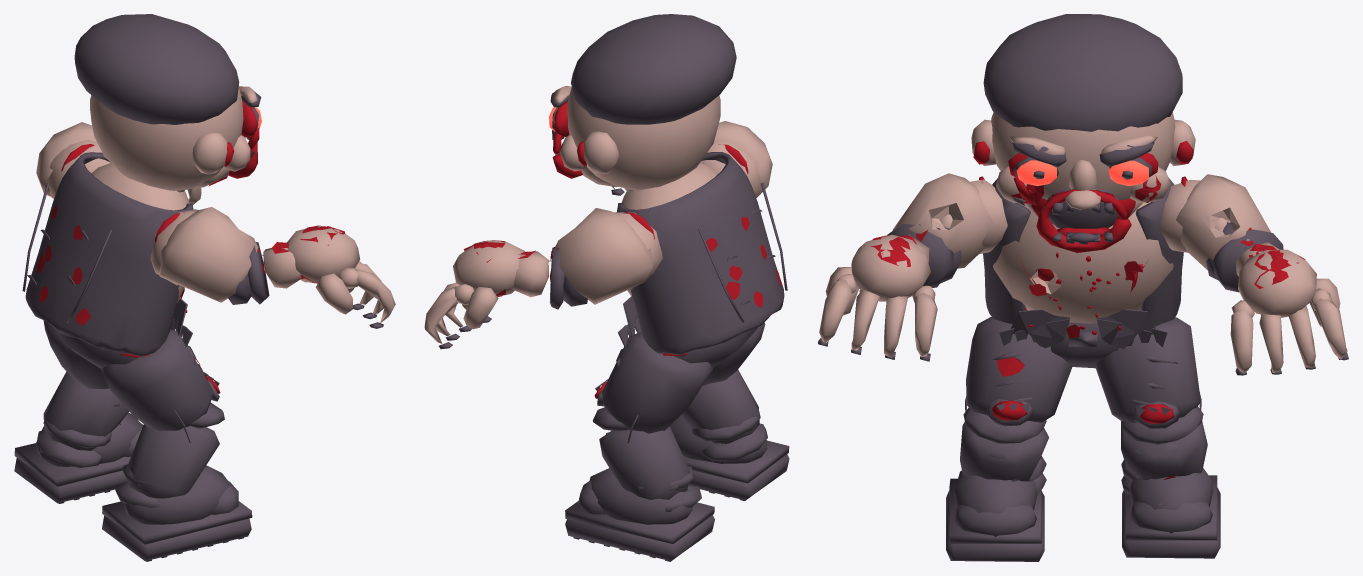
File: inf.alpha.glb
3 views of the same model, side by side, from view 1: azimuth 30°, elevation 25°; view 2: azimuth 150°, elevation 25°; view 3: azimuth 270°, elevation 25° (orthographic). The views are drawn at different scales.
Visible parts, largest first — view 1: head, torso, footR, legR, armR, shinR, handR, shinL, footL, foreArmR, armL, legL (+1 smaller); view 2: head, torso, footL, armL, legL, shinL, handL, shinR, footR, foreArmL, armR, hip (+1 smaller); view 3: head, torso, handL, handR, legR, footR, legL, footL, armL, armR, shinR, shinL (+3 smaller).
Boxes of the visible parts, x1,y1,x2,y2 form: head: (74,14,261,192); torso: (22,152,193,356); footR: (102,465,252,561); legR: (100,329,220,475); armR: (150,207,258,302); shinR: (115,402,224,507); handR: (286,225,395,328); shinL: (37,371,128,468); footL: (14,412,143,503); foreArmR: (228,242,301,304); armL: (36,122,110,198); legL: (43,320,108,388); head: (549,14,736,191); torso: (617,152,787,355); footL: (565,468,714,561); armL: (552,208,662,304); legL: (594,332,712,481); shinL: (592,407,701,512); handL: (424,240,524,349); shinR: (681,369,767,461); footR: (670,415,789,500); foreArmL: (511,247,587,309); armR: (700,121,772,197); hip: (674,327,757,367); head: (971,14,1195,252); torso: (983,177,1183,349); handL: (1230,249,1348,375); handR: (818,234,937,361); legR: (965,317,1072,472); footR: (946,470,1044,561); legL: (1096,317,1201,470); footL: (1122,468,1220,558); armL: (1159,174,1270,270); armR: (892,173,1007,268); shinR: (960,407,1048,493); shinL: (1121,406,1207,495).
Bounding box in the file's own units: 1.4 × 2.58 × 2.41.
